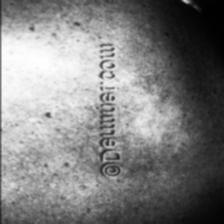Unclassified: (67, 101, 161, 173)
